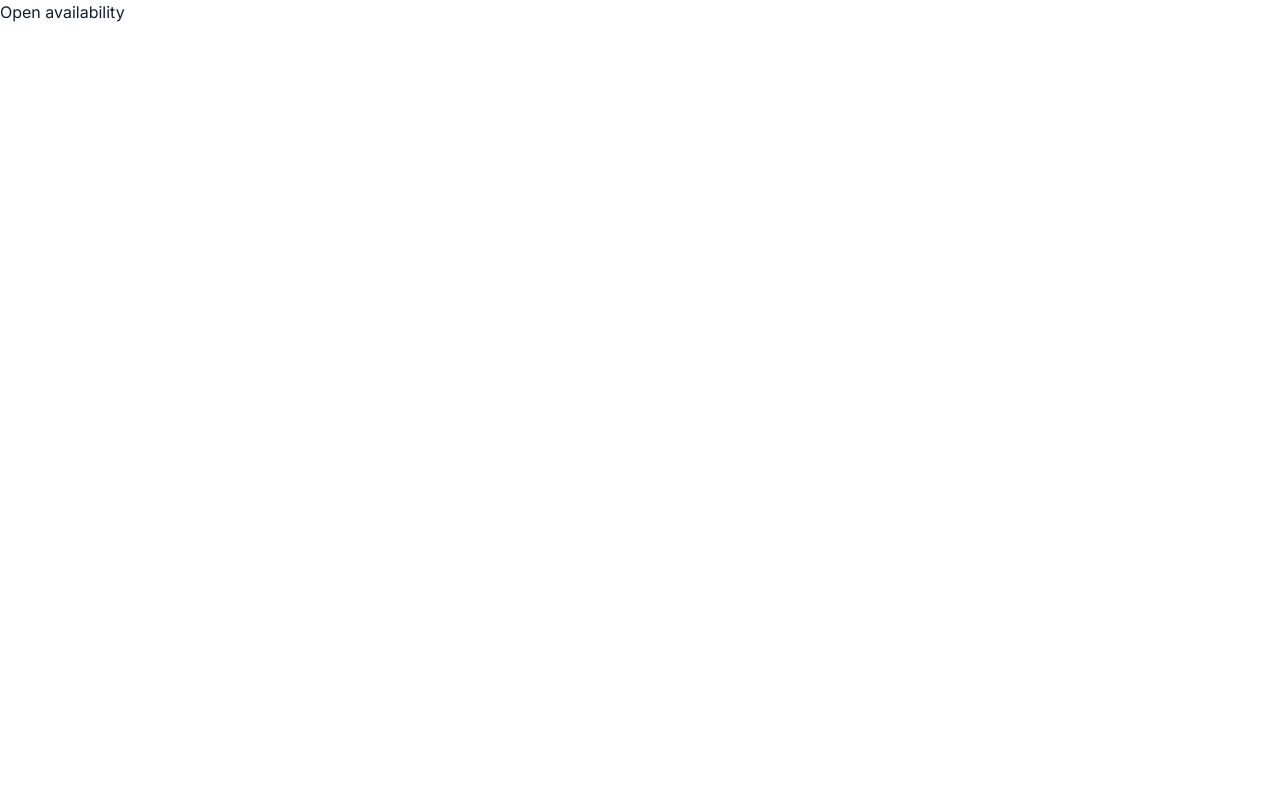
Test case: SetAvailabilityDialog › lets the consultant save new slots after closing and reopening without changes
Later steps or results of the test are not shown.
Click the button "Open availability" at (62, 12), box [0,0,125,24]
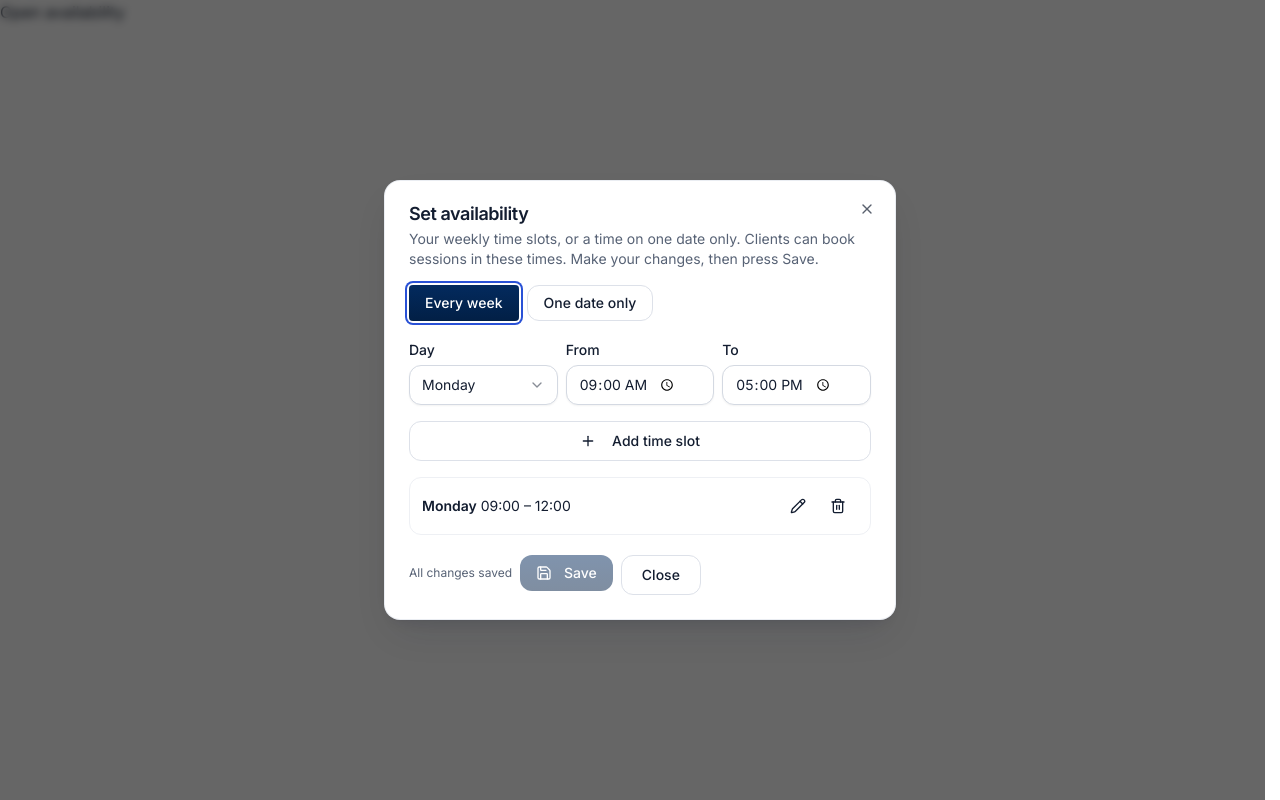
Now the text "Monday 09:00 – 12:00" is shown, box [422,496,571,516]
Click the button "Close" at (661, 575), box [621,555,701,595]
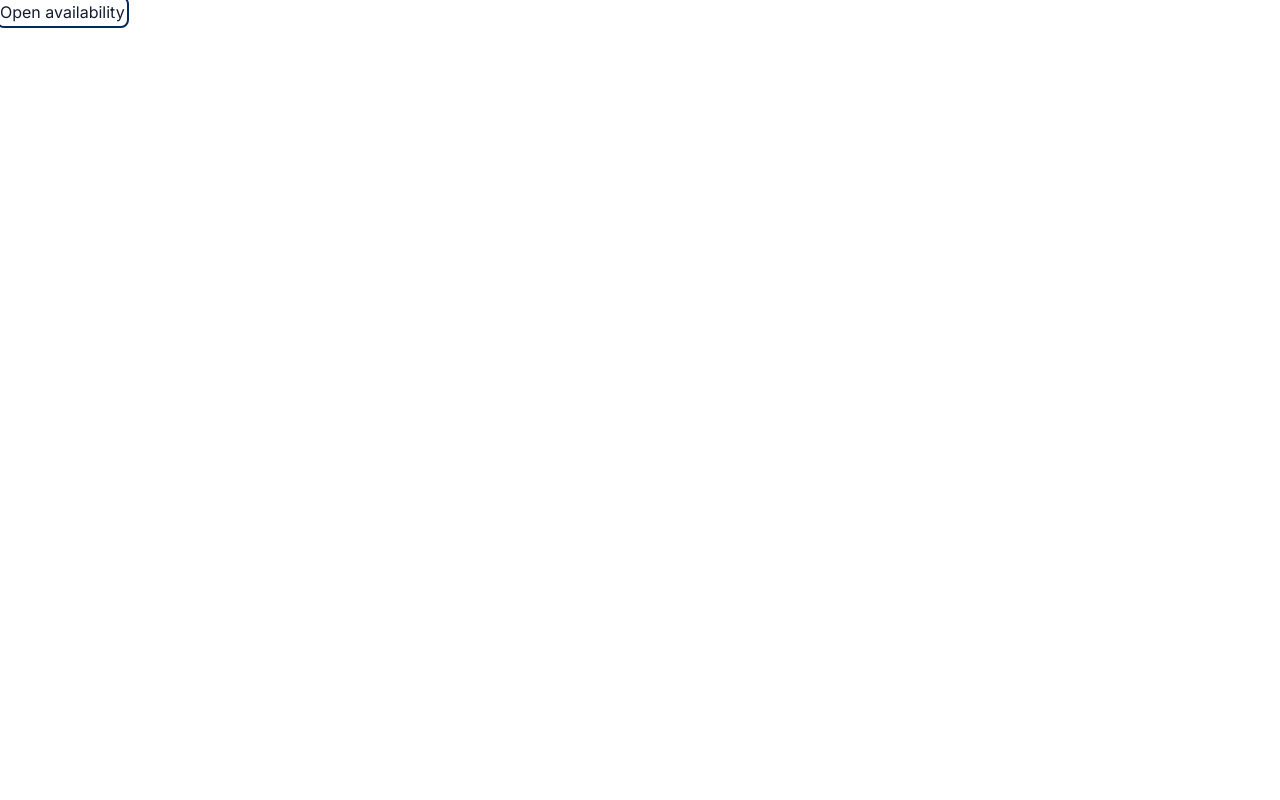
Now the text "09:00 – 12:00" is gone
Click the button "Open availability" at (62, 12), box [0,0,125,24]
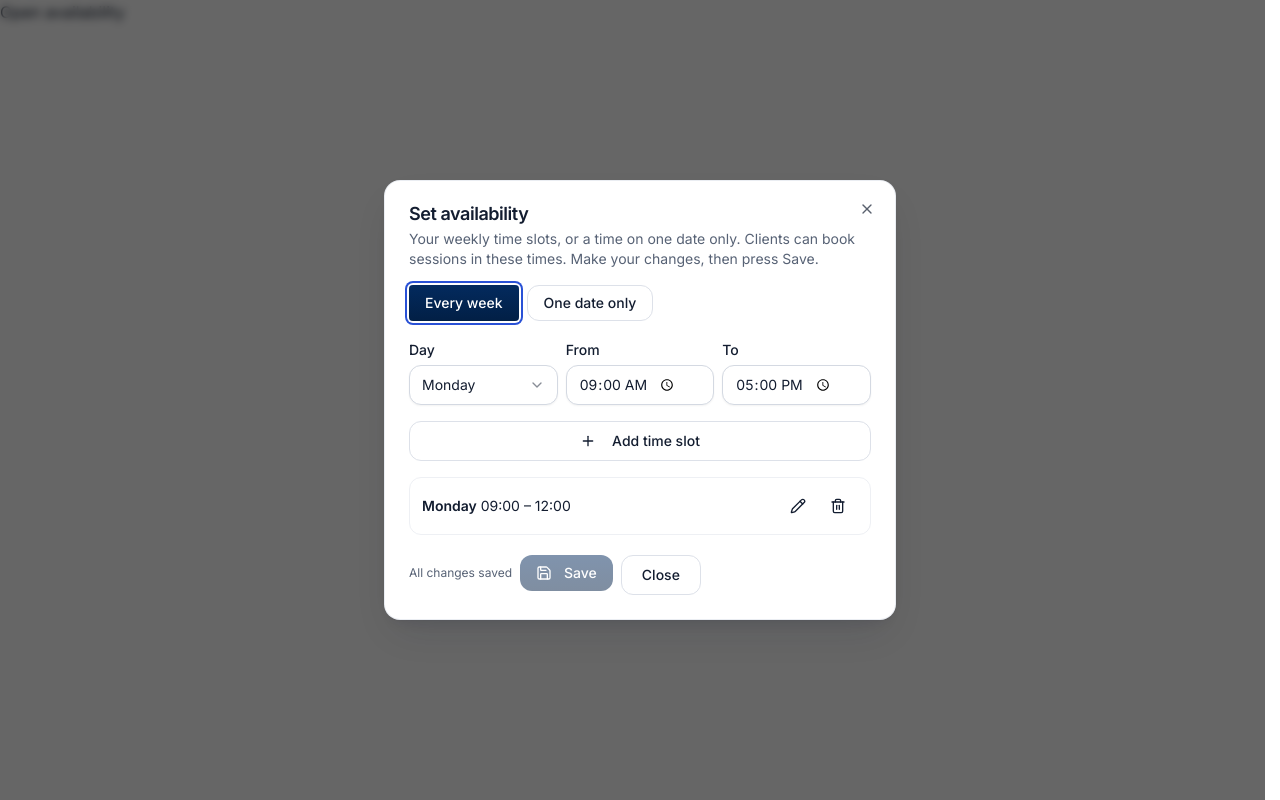
Now the text "Monday 09:00 – 12:00" is shown, box [422,496,571,516]
Replace the text in the time field labelled "From" with "13:00" at (640, 385), box [566,365,714,405]
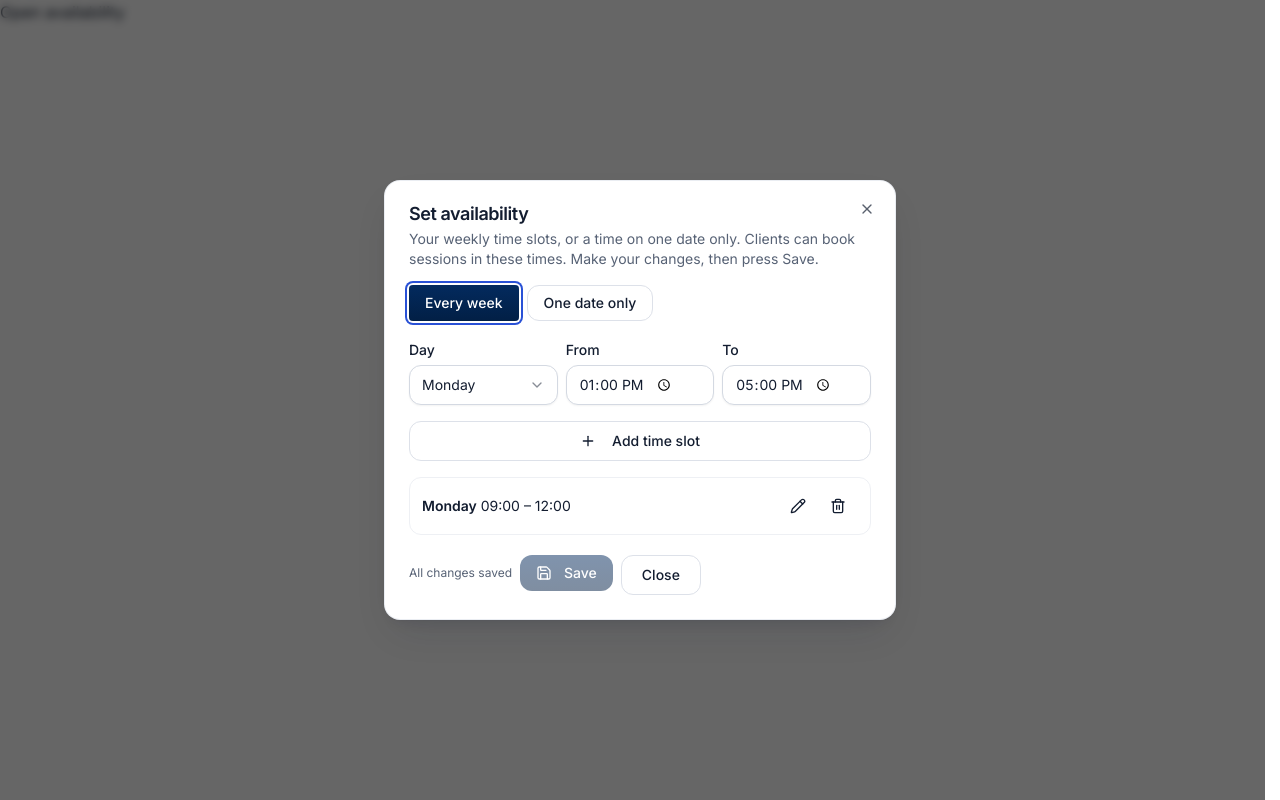
Replace the text in the time field labelled "To" with "15:00" at (797, 385), box [722,365,871,405]
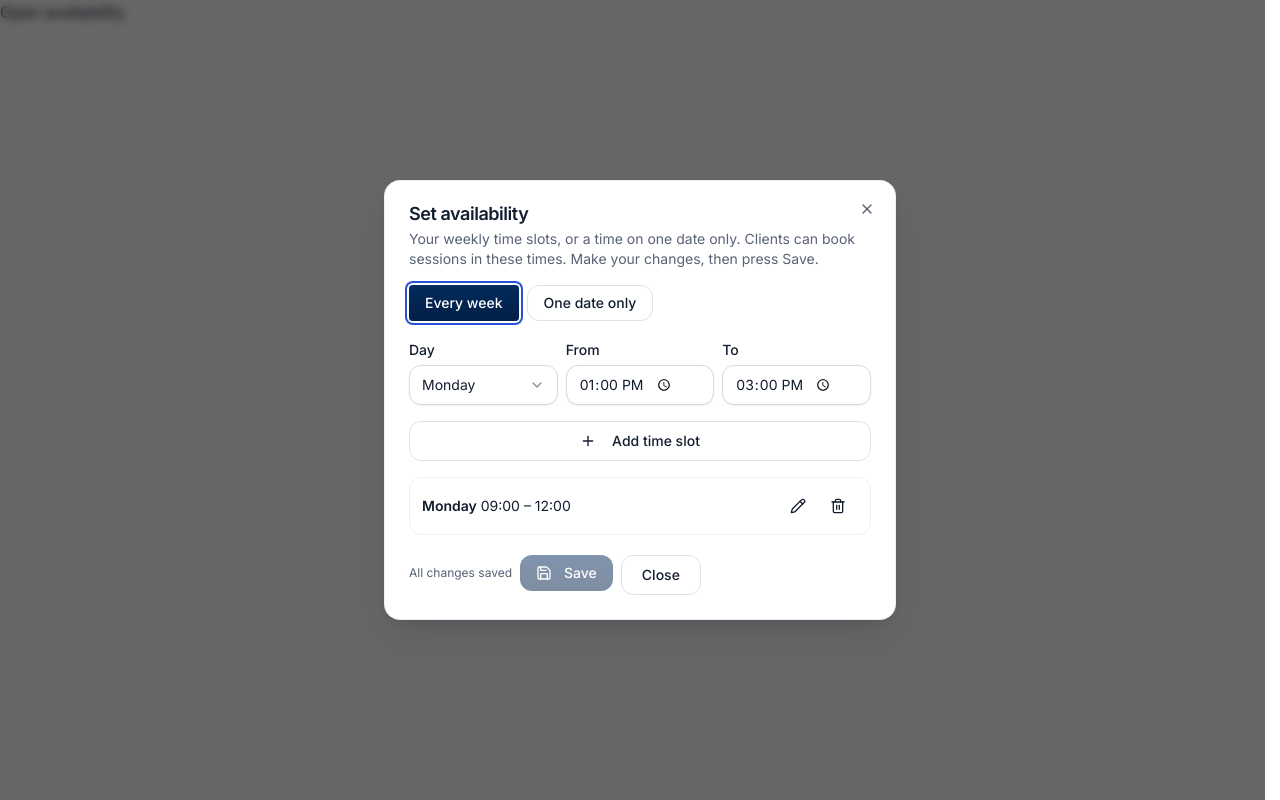
Click the button "Add time slot" at (640, 441), box [409,421,871,461]
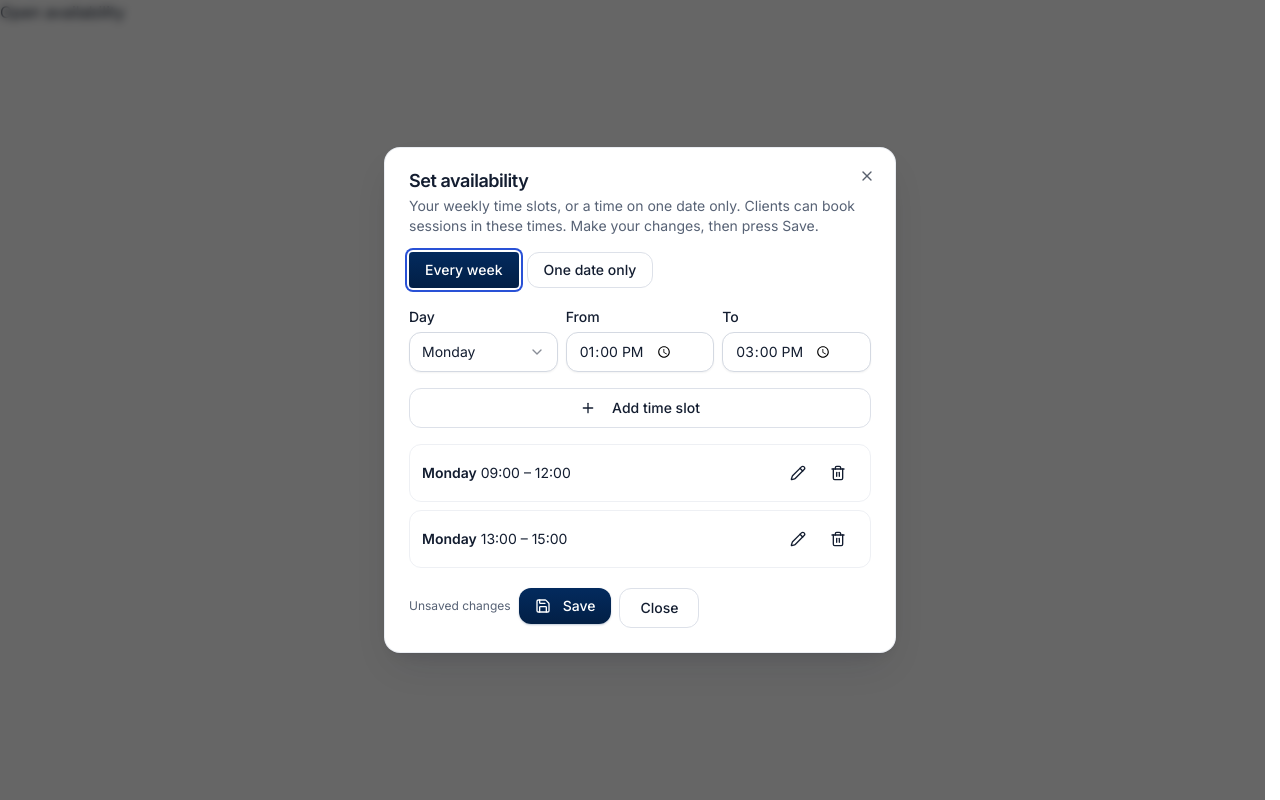
Now the button "Save" is enabled, box [519,588,611,624]
